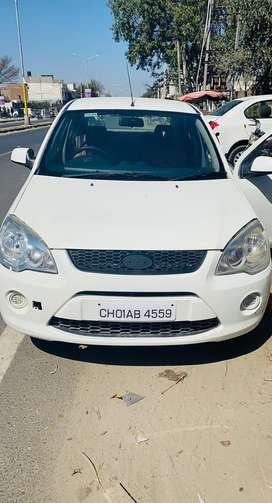CH01AB4559: (81, 301, 175, 321)
